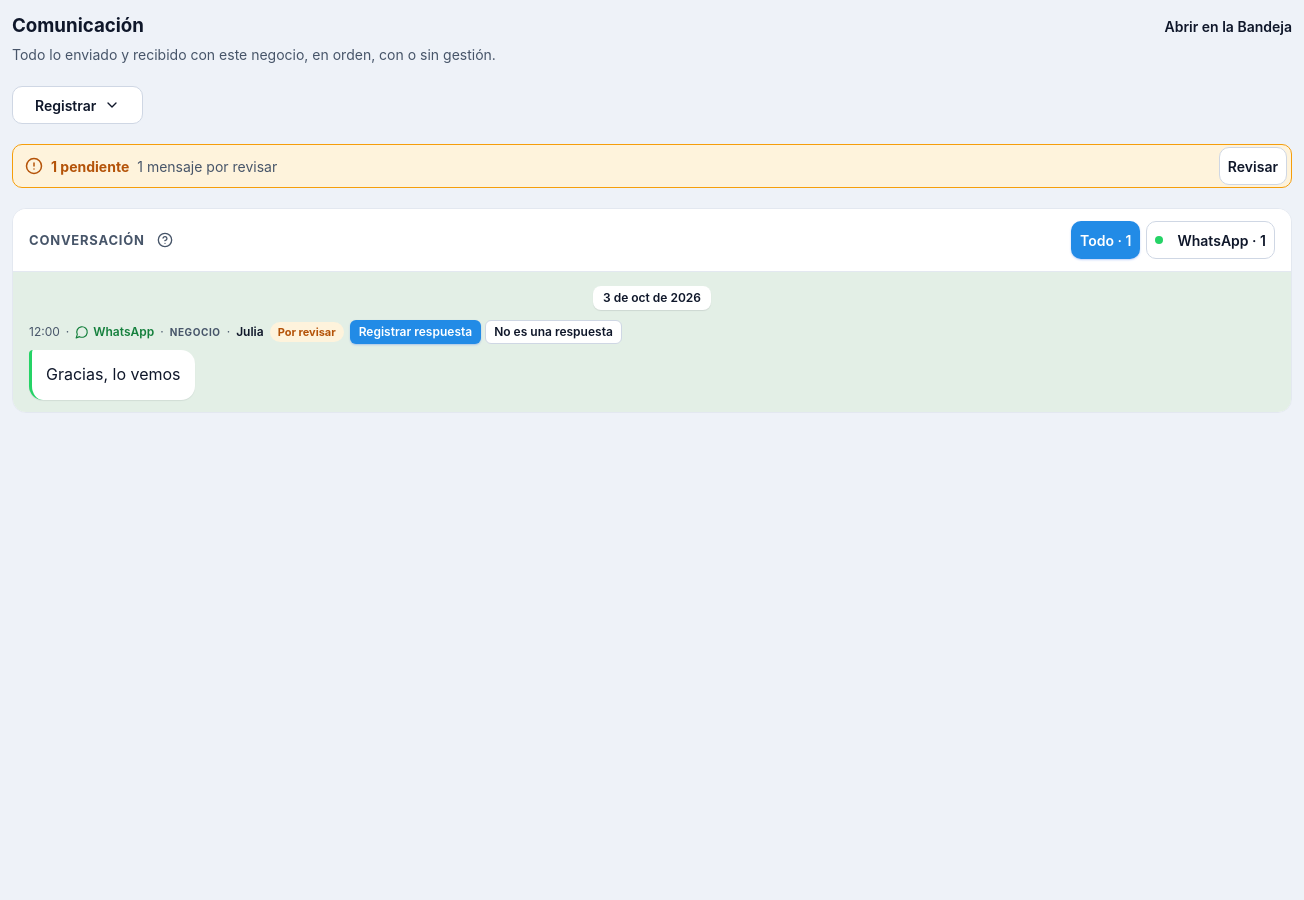
Test: «Requiere acción» strip (spec 100 §5) › keeps «Vencidos» collapsed and answerable, with the explanation
expect the element "Conversación" is shown: met, box [12, 208, 1292, 413]
expect the text "1 pendiente" is shown: met, box [51, 156, 129, 177]
Click the button "Revisar".
click(1253, 166)  # box [1219, 148, 1287, 186]
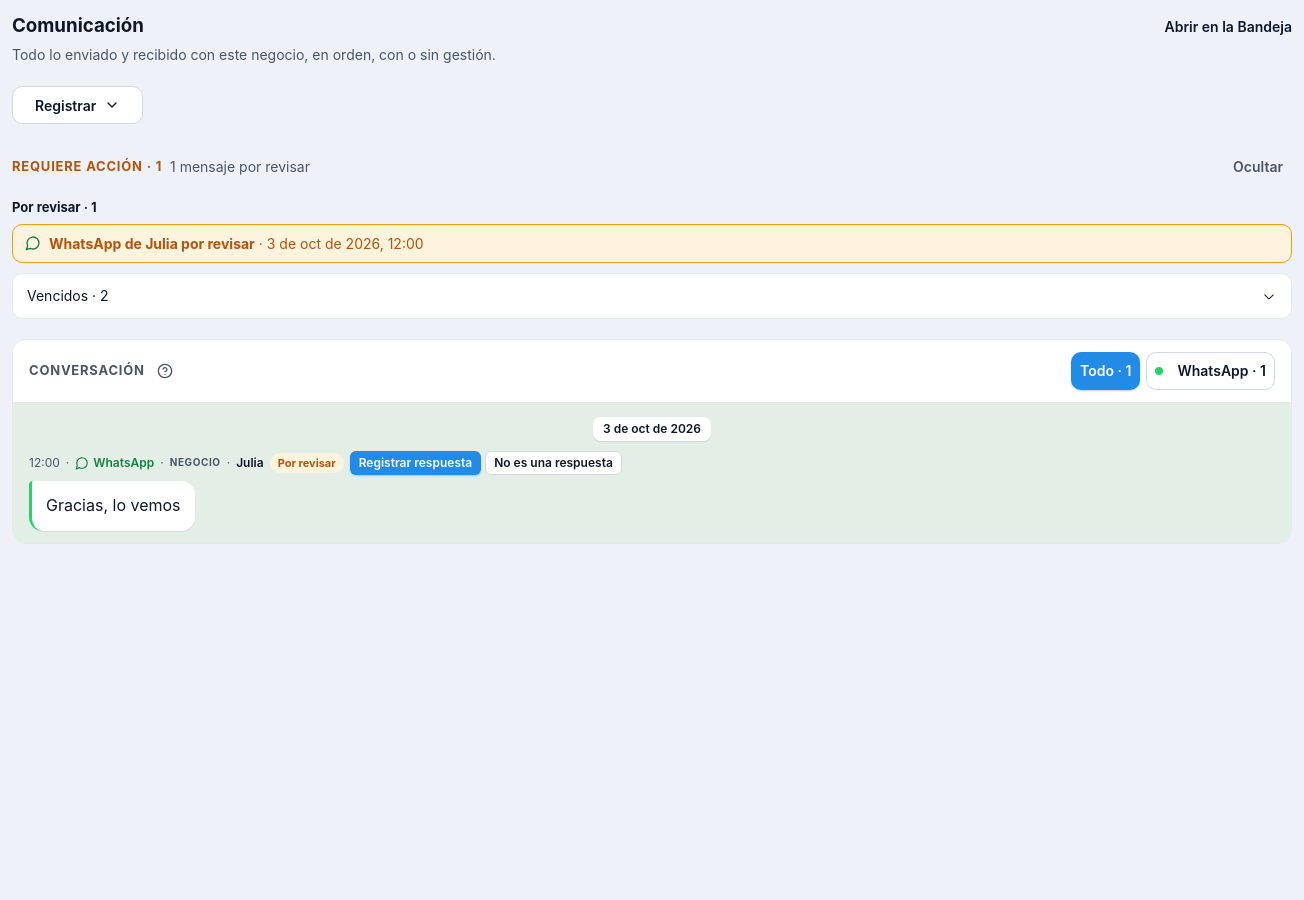
Click the button "Vencidos · 2".
click(64, 296)  # box [13, 274, 1291, 318]
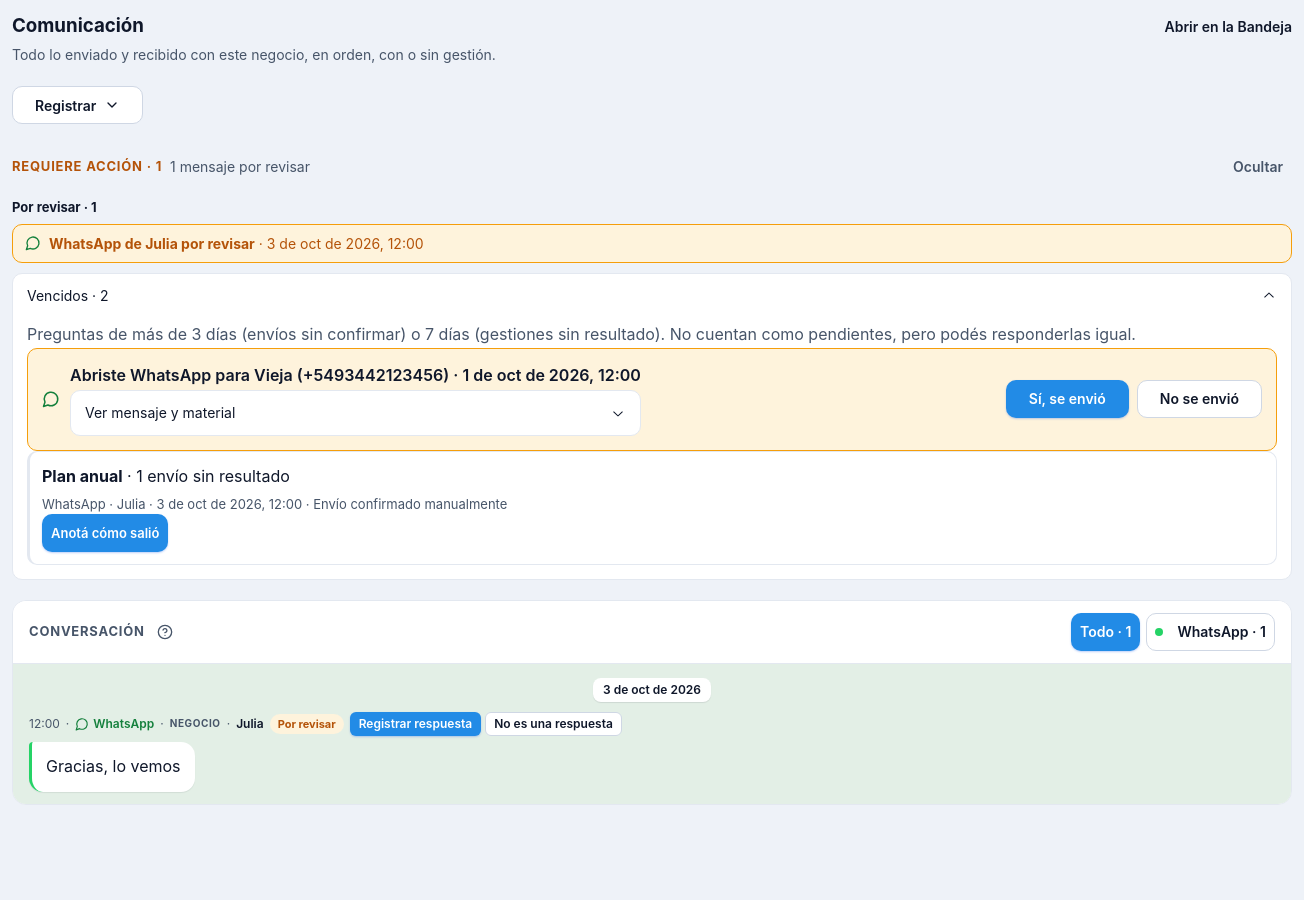
expect the text "Preguntas de más de 3 días (envíos sin confirmar) o 7 días (gestiones sin resultado). No cuentan como pendientes, pero p" is shown: met, box [27, 324, 1136, 344]
expect the button "Sí, se envió" is shown: met, box [1006, 380, 1129, 418]
expect the element named "Resultado pendiente de Plan anual" is shown: met, box [27, 451, 1277, 565]
